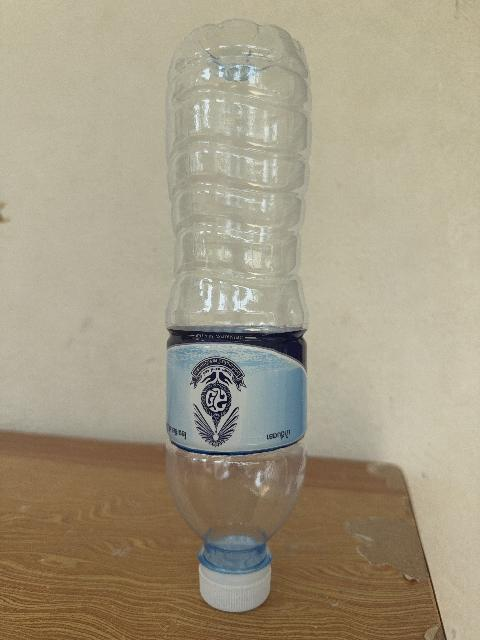bottle: (166, 20, 310, 611)
